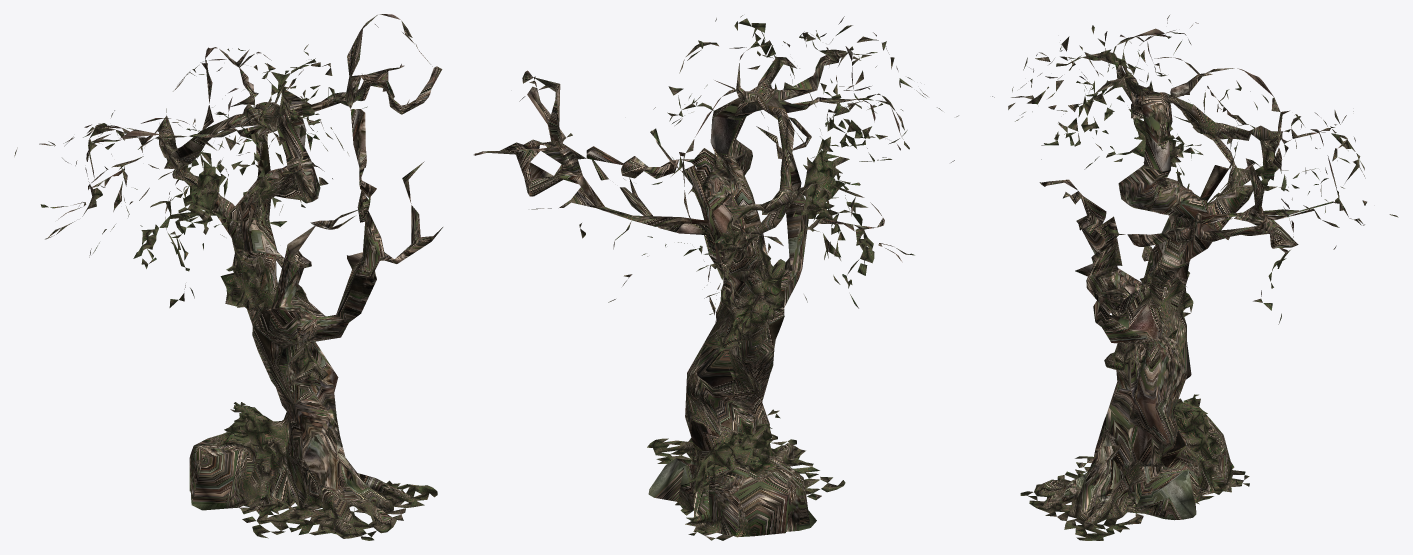
Rendered from dead-tree.glb.
3 renders of one model, left to right at view 1: azimuth 30°, elevation 25°; view 2: azimuth 150°, elevation 25°; view 3: azimuth 270°, elevation 25°, orthographic. The views are drawn at different scales.
Bounding box in the file's own units: 6.66 × 7 × 6.06.
Materials: 1 (1 with a texture image).
